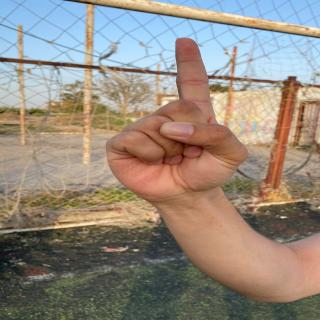BAA: (96, 34, 244, 213)
